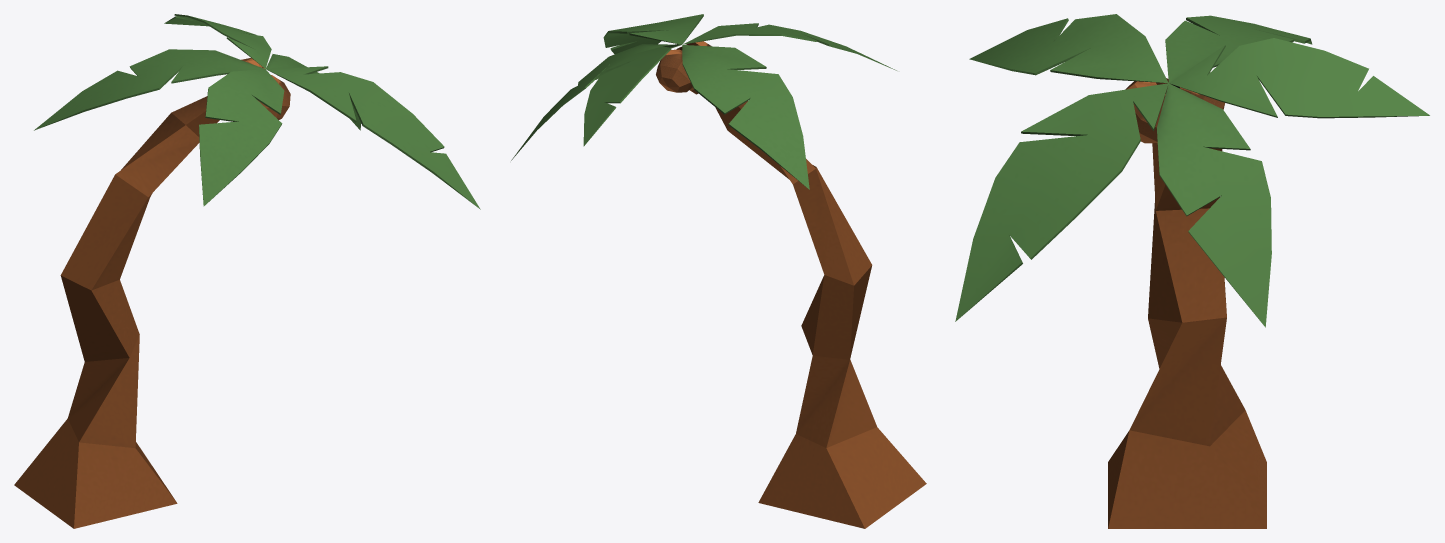
Rendered from TreeModel_1.fbx.
The picture shows the model from 3 angles, left to right: view 1: azimuth 30°, elevation 25°; view 2: azimuth 150°, elevation 25°; view 3: azimuth 270°, elevation 25°; orthographic projection. The views are drawn at different scales.
Parts seen in each view (by area): view 1: pSphere8; view 2: pSphere8; view 3: pSphere8.
Part boxes in pixels (x1,y1,x2,y2): pSphere8: [14, 14, 480, 528]; pSphere8: [511, 14, 926, 528]; pSphere8: [955, 14, 1429, 528].
Size of the model in its own units: 3.78 by 4.28 by 3.36.
